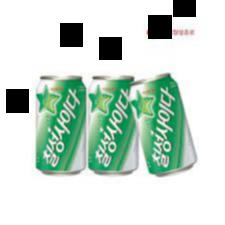chilsungcider: (33, 71, 88, 178)
